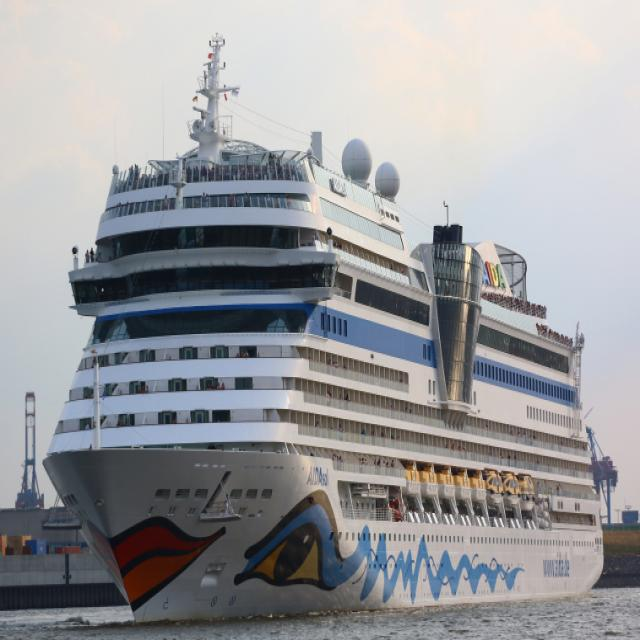cruises: (38, 31, 612, 634)
